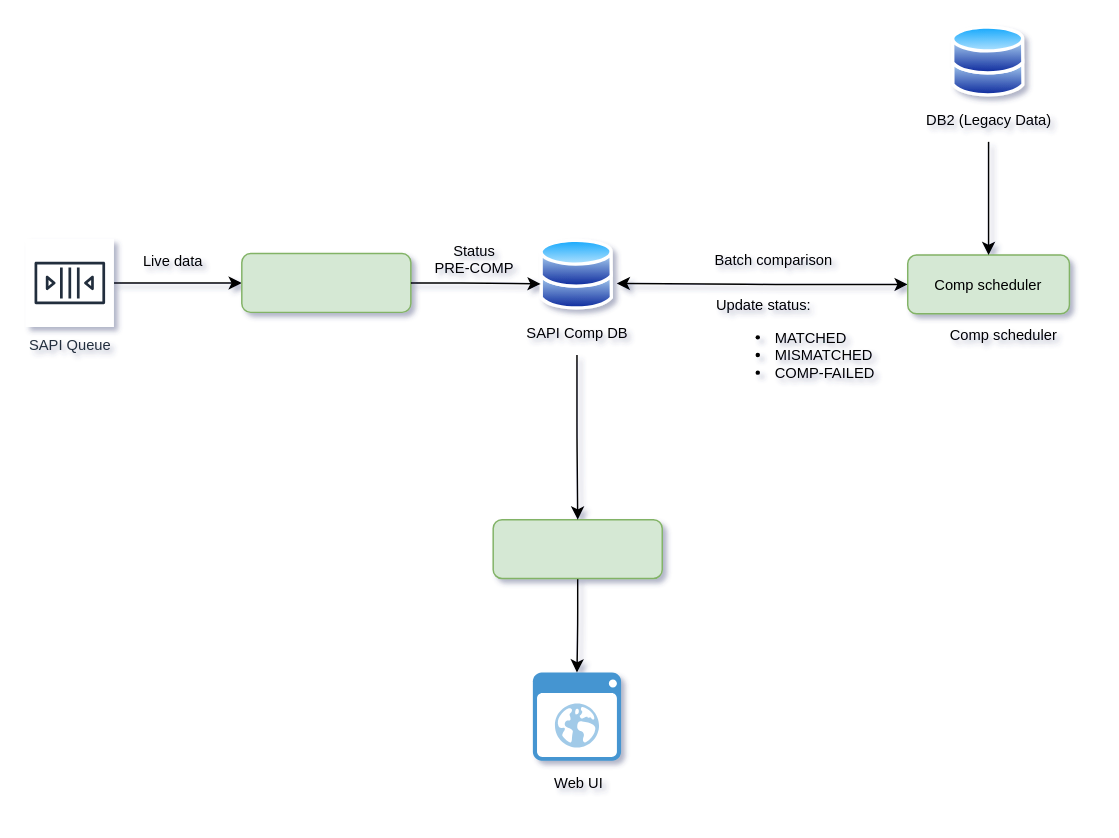
Image size: 1119x838. Some labels were removed from this diagram. Each missing label, with the box of its shape:
Comp subscriber: (240, 252, 411, 312)
Comp tool backend: (492, 518, 662, 578)
